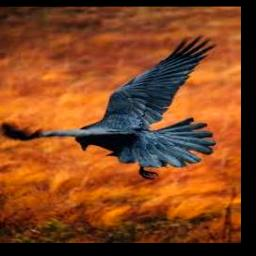Crow: (0, 33, 217, 178)
